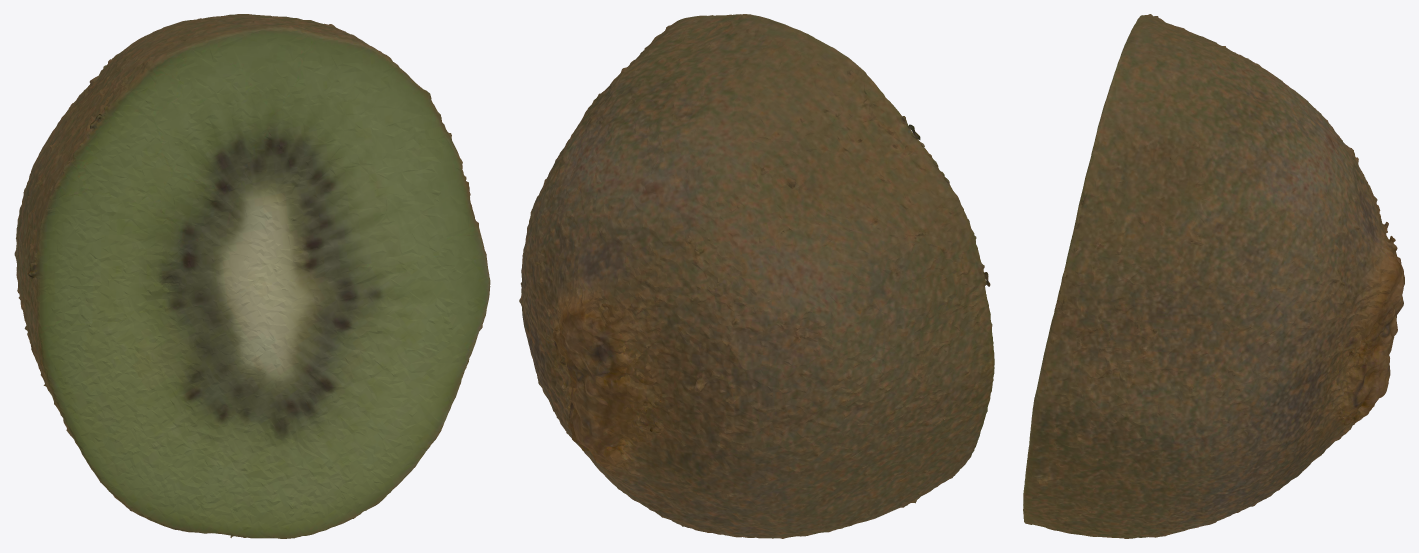
Rendered from kiwi-half.glb.
3 views of the same model, side by side, from view 1: azimuth 30°, elevation 25°; view 2: azimuth 150°, elevation 25°; view 3: azimuth 270°, elevation 25° (orthographic). The views are drawn at different scales.
Parts seen in each view (by area): view 1: kiwi-half; view 2: kiwi-half; view 3: kiwi-half.
Boxes of the visible parts, x1,y1,x2,y2 form: kiwi-half: (14, 14, 490, 538); kiwi-half: (519, 14, 994, 538); kiwi-half: (1023, 14, 1404, 538).
Size of the model in its own units: 0.9112 by 1 by 0.7316.
1 material, 1 textured.
